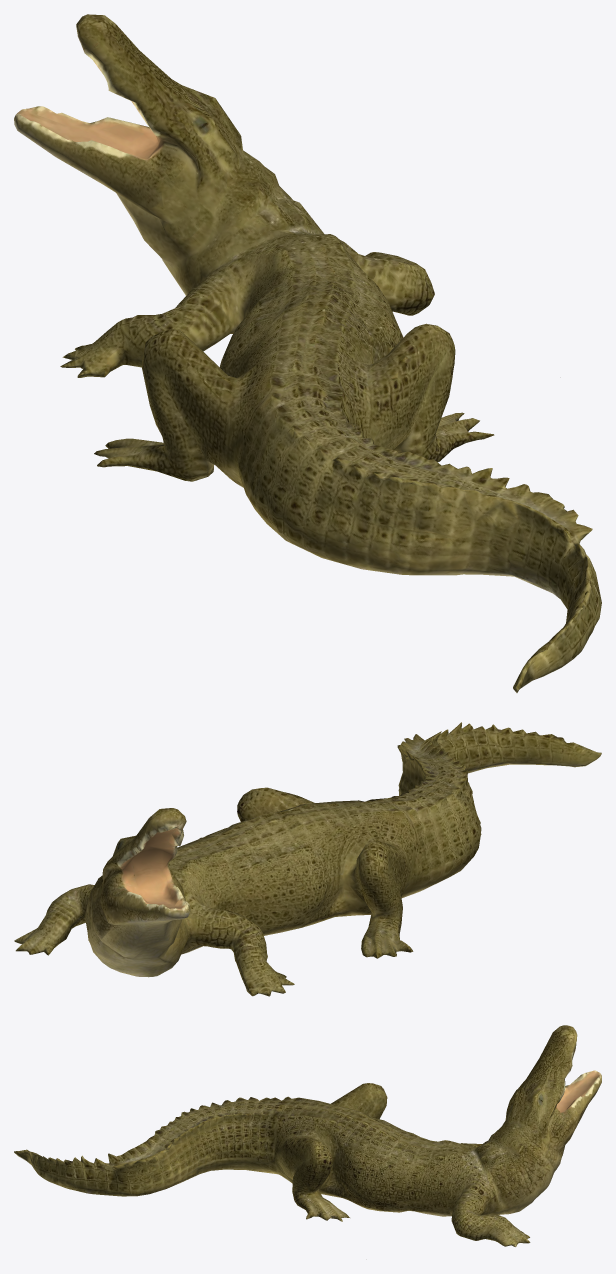
Rendered from crocodilo.glb.
The picture shows the model from 3 angles, top to bottom: view 1: azimuth 30°, elevation 25°; view 2: azimuth 150°, elevation 25°; view 3: azimuth 270°, elevation 25°; orthographic projection. The views are drawn at different scales.
Parts seen in each view (by area): view 1: Object_2; view 2: Object_2; view 3: Object_2.
Boxes of the visible parts, bbox=[...] form: Object_2: bbox=[14, 14, 601, 692]; Object_2: bbox=[14, 722, 601, 996]; Object_2: bbox=[14, 1025, 601, 1246].
Size of the model in its own units: 25.85 by 16.17 by 54.16.
Materials: 1 (1 with a texture image).
